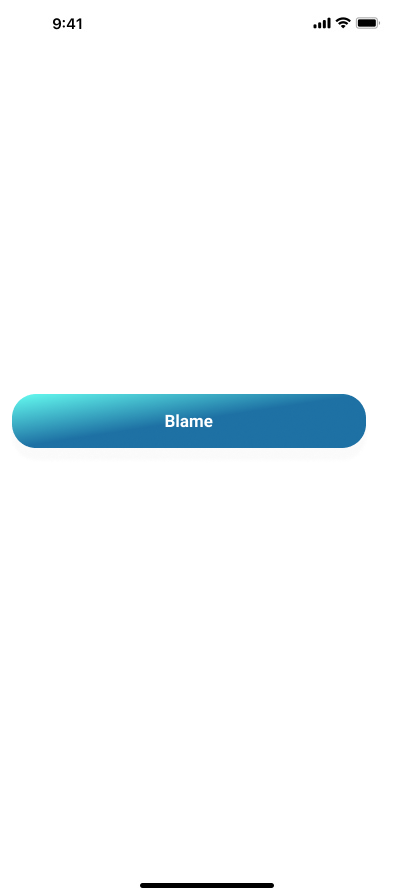Buttons: (8, 394, 374, 464)
Home Indicator: (0, 862, 414, 896)
Status Bar: (0, 0, 414, 44)
